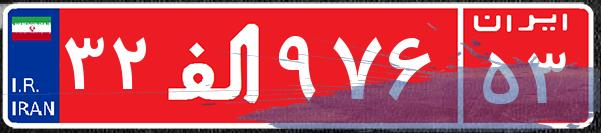2: (110, 28, 158, 105)
3: (57, 26, 110, 107), (525, 38, 570, 115)
5: (475, 38, 525, 113)
6: (385, 28, 445, 110)
7: (330, 28, 385, 110)
9: (273, 28, 330, 110)
الف: (158, 15, 273, 115)
